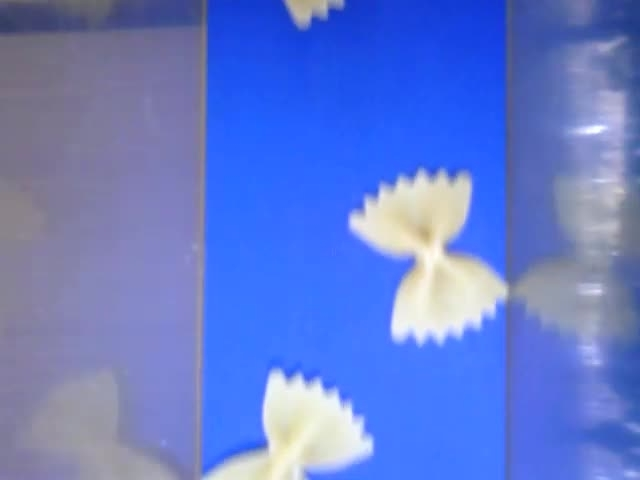farfalle: (348, 167, 508, 345), (199, 365, 374, 480), (285, 1, 351, 30)
